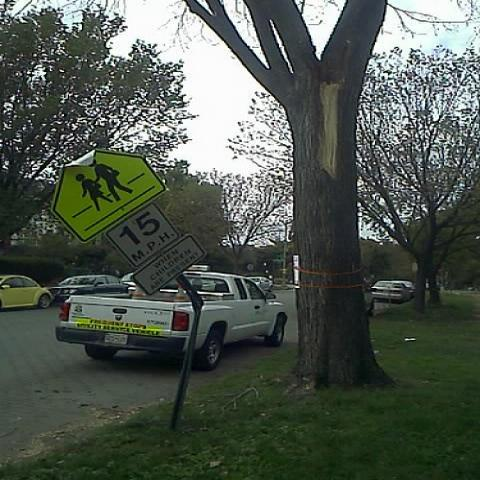car: (46, 275, 121, 306), (0, 275, 56, 309), (371, 279, 415, 304), (250, 277, 274, 291), (121, 272, 133, 282)
truck: (54, 268, 286, 370)
